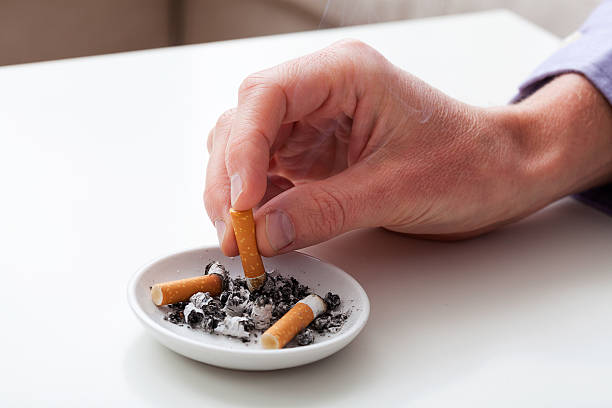cigarette: (260, 293, 328, 351), (227, 206, 268, 295), (150, 261, 227, 307)
